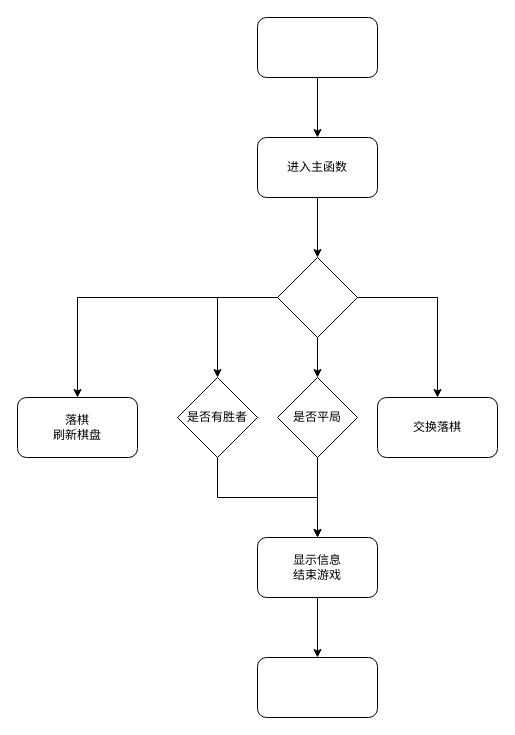
This 515x735 diagram has some shape labels left out. The centre of each missing label's shape, as x and y in pixels:
1s后重置游戏: (x=317, y=687)
是否可以落棋: (x=317, y=297)
获取点击事件: (x=317, y=47)
